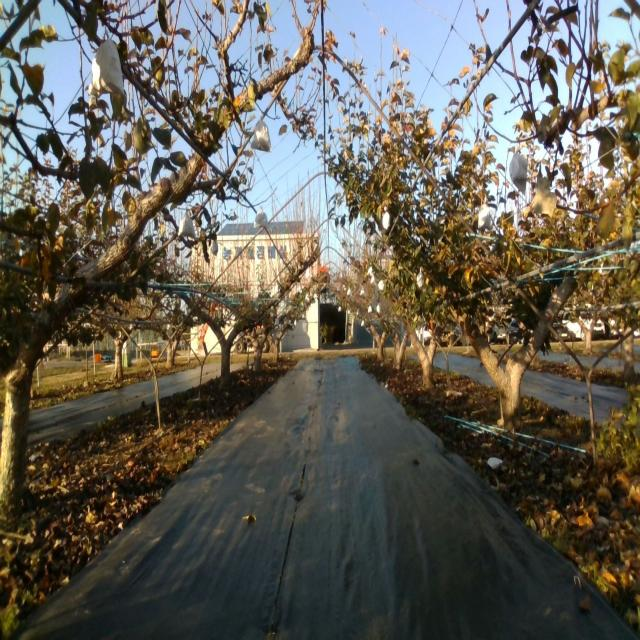pearbags: (88, 36, 125, 102), (509, 152, 527, 192), (250, 120, 271, 153), (178, 210, 197, 238), (476, 203, 491, 231), (254, 206, 269, 231)
